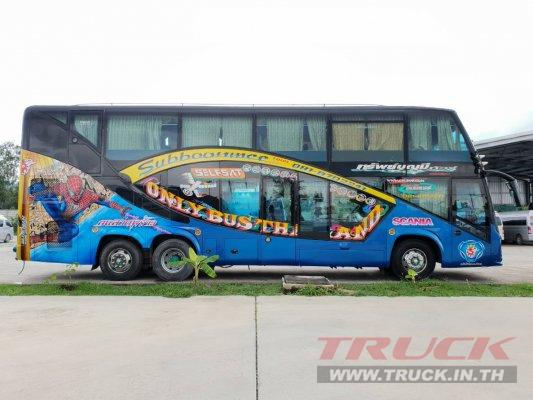bus: (15, 101, 505, 279)
